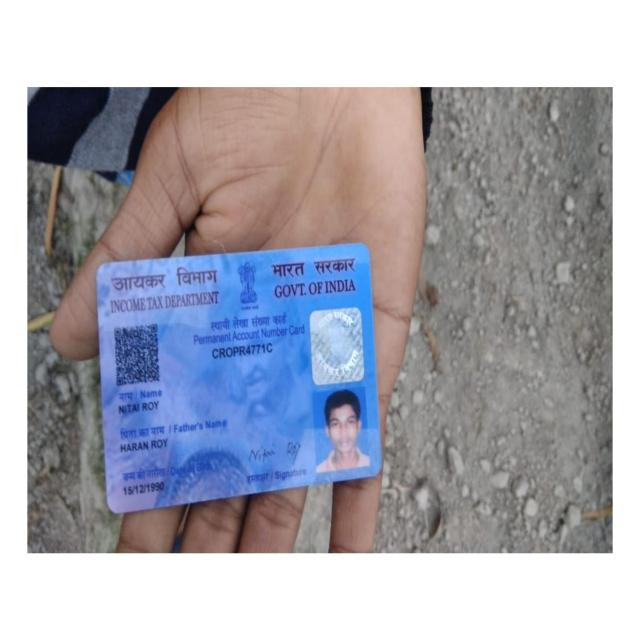pan_card: (98, 243, 378, 516)
